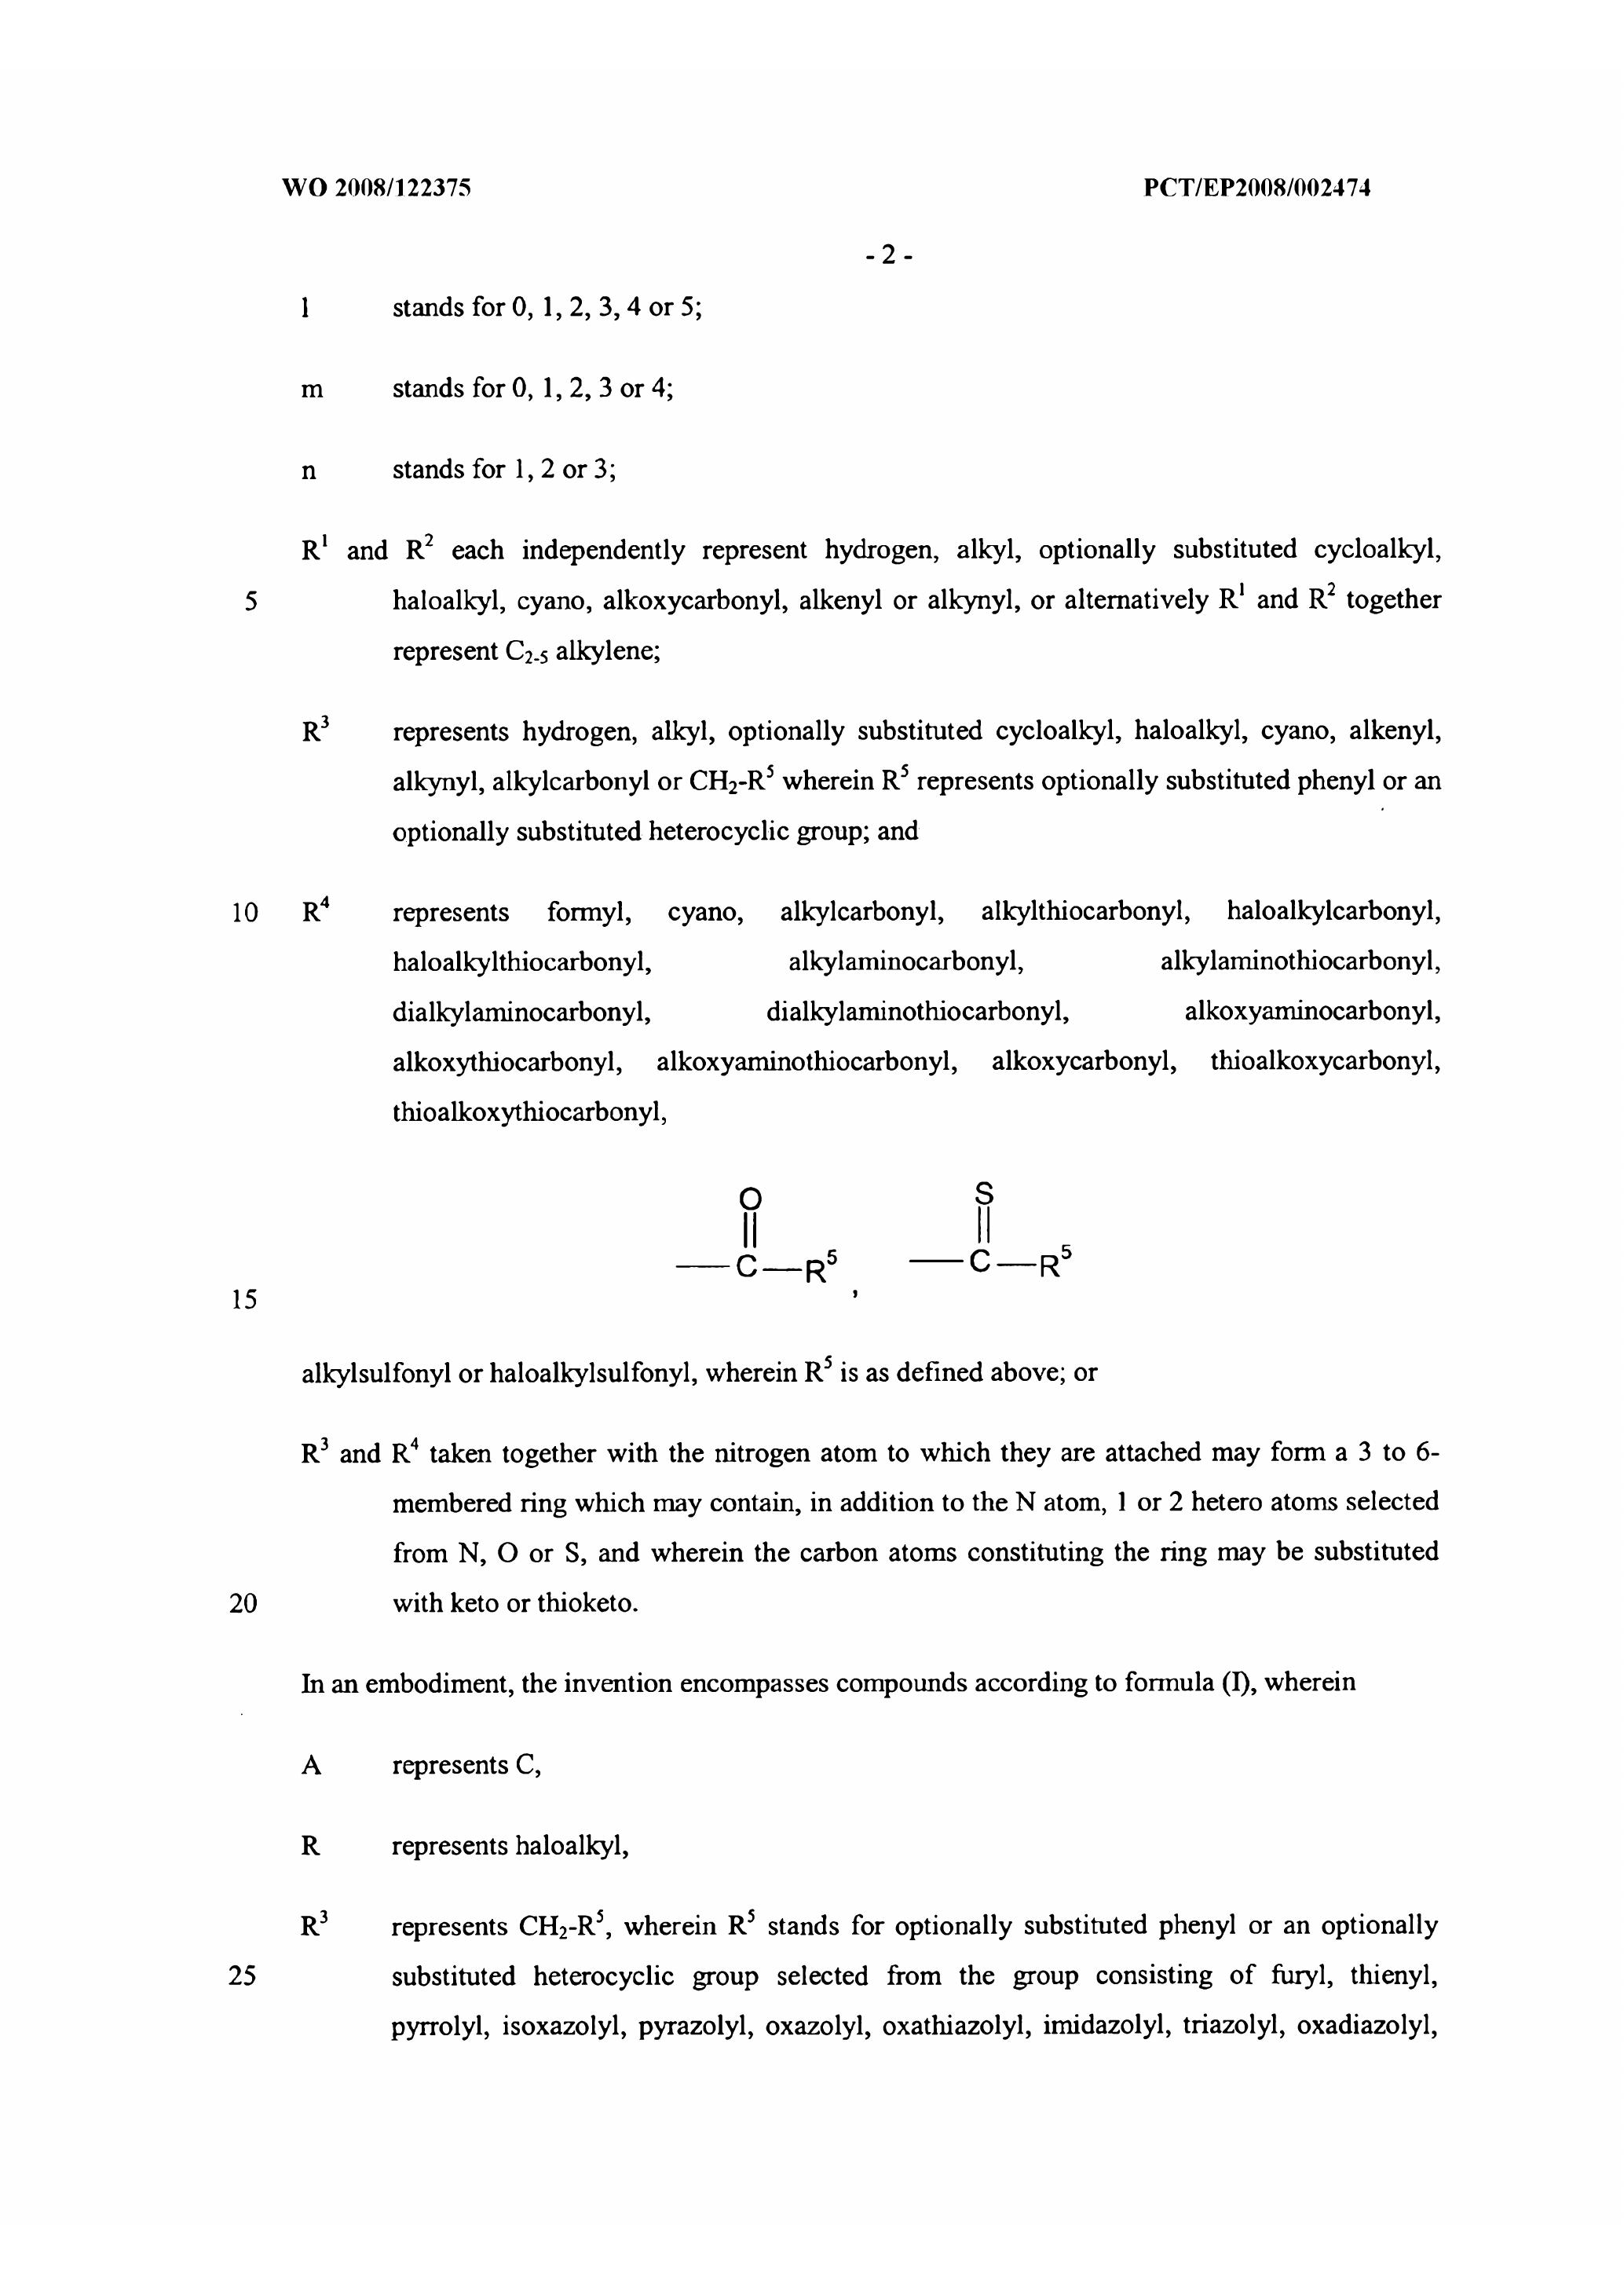substitutes: (285, 874, 1522, 1406)
